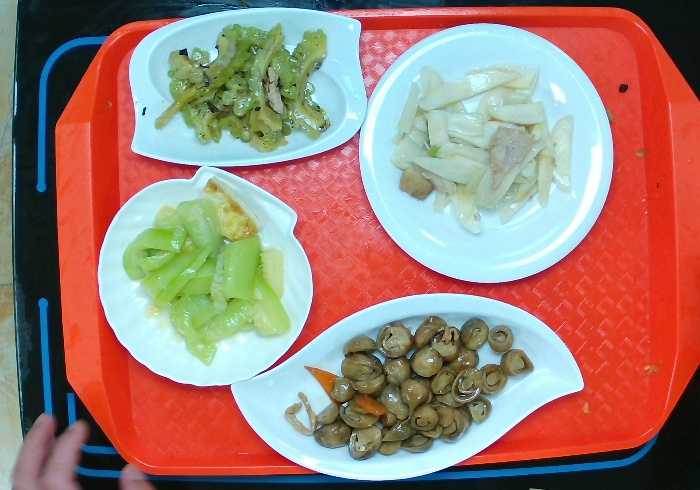RJxy-Bei_Ke_Wan: (95, 162, 312, 388)
RJxy-Jian_Jiao_Fang_Die: (126, 4, 368, 173)
RJxy-Jian_Jiao_Pan: (230, 291, 584, 482)
RJxy-Yuan_Pan: (349, 13, 618, 287)
